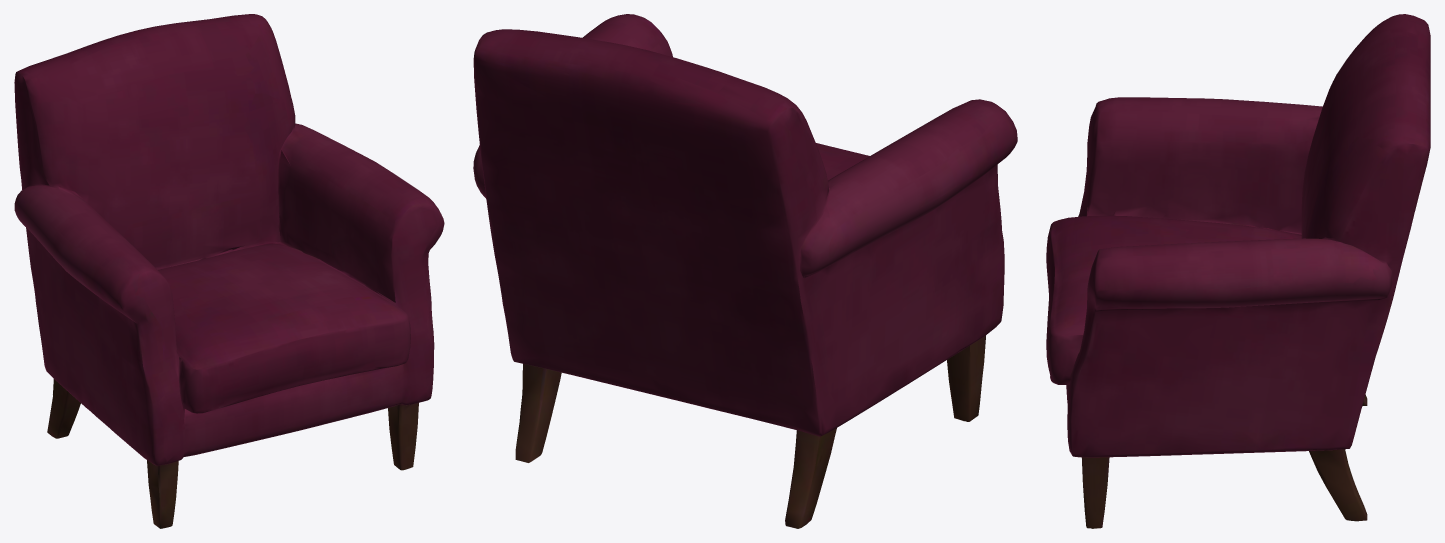
The model's file is chair.glb.
3 renders of one model, left to right at view 1: azimuth 30°, elevation 25°; view 2: azimuth 150°, elevation 25°; view 3: azimuth 270°, elevation 25°, orthographic. The views are drawn at different scales.
Visible parts, largest first — view 1: chair; view 2: chair; view 3: chair.
Part boxes in pixels (x1,y1,x2,y2): chair: [14, 14, 444, 528]; chair: [473, 14, 1017, 528]; chair: [1046, 14, 1430, 528].
Bounding box in the file's own units: 0.8976 × 0.95 × 0.8265.
1 material, 1 textured.
